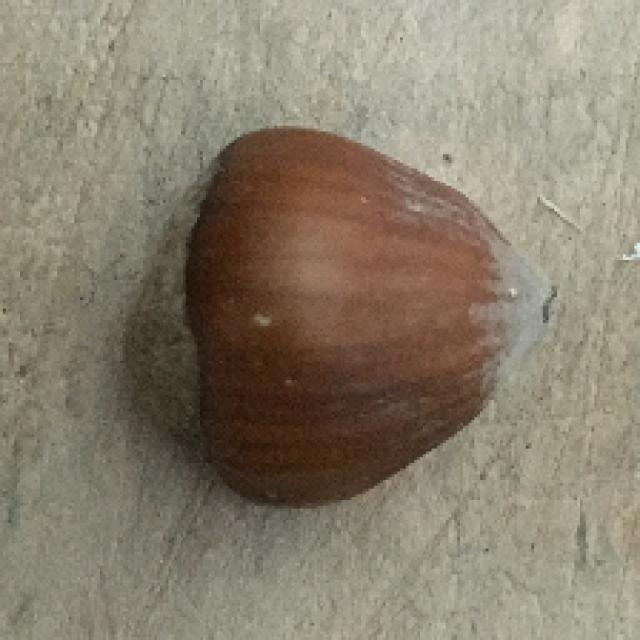qualityHazelnut: (113, 115, 560, 523)
